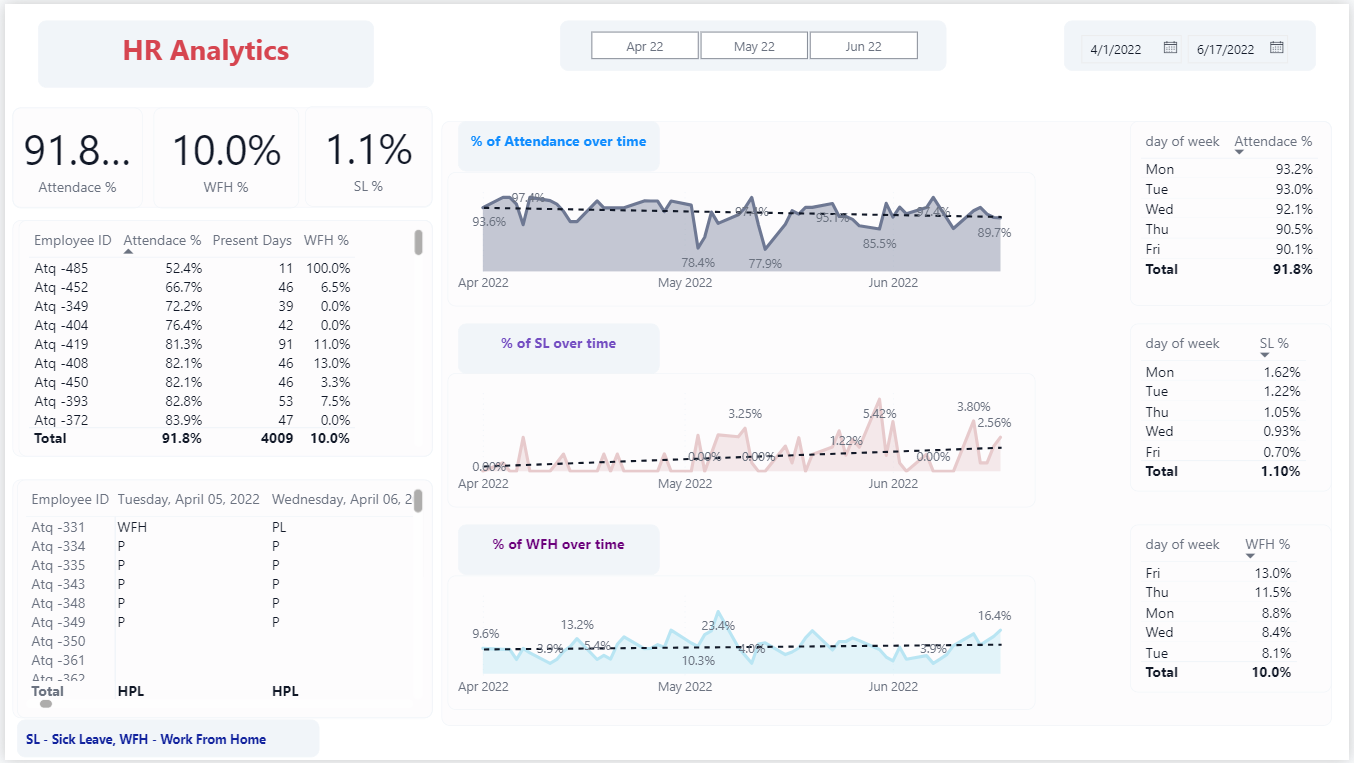

What the dashboard file says about the page in this screenshot:
{"tool":"powerbi","page":{"name":"Presence Insights","canvas":[1280,720],"ordinal":0},"visuals":[{"type":"textbox","box":[7.8,205.6,399.9,225.5],"z":0},{"type":"textbox","box":[7.8,453.3,399.8,227.6],"z":1000},{"type":"textbox","box":[416,112,848,576],"z":2000},{"type":"textbox","box":[7.8,98,399.9,95.4],"z":3000},{"type":"tableEx","fields":{"Values":["Final Data.Employee ID","Measures (2).Attendace %","Measures (2).Present Days","Measures (2).WFH %"]},"box":[12.6,205.2,394.9,225.7],"z":4000},{"type":"slicer","fields":{"Values":["Final Data.Date"]},"box":[1008,16,240,48],"z":5000},{"type":"slicer","fields":{"Values":["Final Data.MMM YY"]},"box":[528,16,368,48],"z":6000},{"type":"areaChart","fields":{"Category":["Final Data.MMM YY","Final Data.Date"],"Y":["Measures (2).WFH %"]},"box":[422,544,560,128],"z":7000},{"type":"areaChart","fields":{"Category":["Final Data.WeekNo","Final Data.Date"],"Y":["Measures (2).Attendace %"]},"box":[422,160,560,128],"z":8000},{"type":"card","fields":{"Values":["Measures (2).Attendace %"]},"box":[7.8,98,124,96.3],"z":9000},{"type":"card","fields":{"Values":["Measures (2).WFH %"]},"box":[141.4,98,138.8,96.3],"z":10000},{"type":"areaChart","fields":{"Category":["Final Data.MMM YY","Final Data.Date"],"Y":["Measures (2).SL %"]},"box":[422,352,560,128],"z":11000},{"type":"card","fields":{"Values":["Measures (2).SL %"]},"box":[286.3,97.2,121.4,96.3],"z":13000},{"type":"textbox","box":[32,16,320,64],"z":14000},{"type":"textbox","box":[432,112,192,48],"z":15000},{"type":"textbox","box":[432,304,192,48],"z":16000},{"type":"textbox","box":[432,496,192,48],"z":17000},{"type":"pivotTable","fields":{"Rows":["Final Data.Employee ID"],"Columns":["Final Data.Date"],"Values":["Min(Final Data.Value)"]},"box":[11.7,453.3,395.9,227.6],"z":18000},{"type":"textbox","box":[11,681,288,36],"z":19000},{"type":"tableEx","fields":{"Values":["Final Data.day of week","Measures (2).Attendace %"]},"box":[1072,112,192,176],"z":20000},{"type":"tableEx","fields":{"Values":["Final Data.day of week","Measures (2).SL %"]},"box":[1072,304,192,160],"z":21000},{"type":"tableEx","fields":{"Values":["Final Data.day of week","Measures (2).WFH %"]},"box":[1072,496,192,160],"z":22000}]}

Visuals, with their boxes in screenshot pixels (x1, y1, x2, y2), scaled from the page's 1280x720 canvas onto the 1354x763 screenshot:
textbox: <bbox>8, 218, 431, 457</bbox>
textbox: <bbox>8, 480, 431, 722</bbox>
textbox: <bbox>440, 119, 1337, 729</bbox>
textbox: <bbox>8, 104, 431, 205</bbox>
tableEx - Final Data.Employee ID x Measures (2).Attendace %: <bbox>13, 217, 431, 457</bbox>
slicer - Final Data.Date: <bbox>1066, 17, 1320, 68</bbox>
slicer - Final Data.MMM YY: <bbox>559, 17, 948, 68</bbox>
areaChart - Final Data.MMM YY x Final Data.Date: <bbox>446, 576, 1039, 712</bbox>
areaChart - Final Data.WeekNo x Final Data.Date: <bbox>446, 170, 1039, 305</bbox>
card - Measures (2).Attendace %: <bbox>8, 104, 139, 206</bbox>
card - Measures (2).WFH %: <bbox>150, 104, 296, 206</bbox>
areaChart - Final Data.MMM YY x Final Data.Date: <bbox>446, 373, 1039, 509</bbox>
card - Measures (2).SL %: <bbox>303, 103, 431, 205</bbox>
textbox: <bbox>34, 17, 372, 85</bbox>
textbox: <bbox>457, 119, 660, 170</bbox>
textbox: <bbox>457, 322, 660, 373</bbox>
textbox: <bbox>457, 526, 660, 576</bbox>
pivotTable - Final Data.Employee ID x Final Data.Date: <bbox>12, 480, 431, 722</bbox>
textbox: <bbox>12, 722, 316, 760</bbox>
tableEx - Final Data.day of week x Measures (2).Attendace %: <bbox>1134, 119, 1337, 305</bbox>
tableEx - Final Data.day of week x Measures (2).SL %: <bbox>1134, 322, 1337, 492</bbox>
tableEx - Final Data.day of week x Measures (2).WFH %: <bbox>1134, 526, 1337, 695</bbox>
